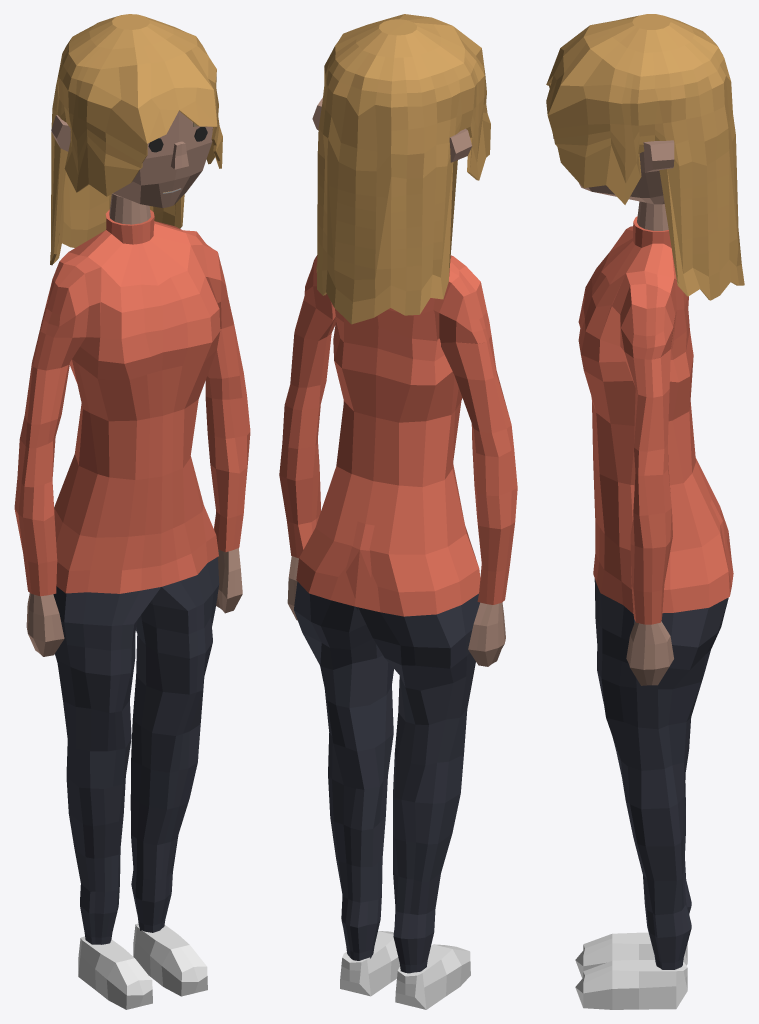
The model's file is npcfemale1.fbx.
3 renders of one model, left to right at view 1: azimuth 30°, elevation 25°; view 2: azimuth 150°, elevation 25°; view 3: azimuth 270°, elevation 25°, orthographic.
Parts seen in each view (by area): view 1: Cylinder.006; view 2: Cylinder.006; view 3: Cylinder.006.
Boxes of the visible parts, x1,y1,x2,y2 form: Cylinder.006: [14, 14, 250, 1009]; Cylinder.006: [279, 14, 517, 1009]; Cylinder.006: [546, 14, 744, 1009].
Bounding box in the file's own units: 36.17 × 146 × 27.2.
